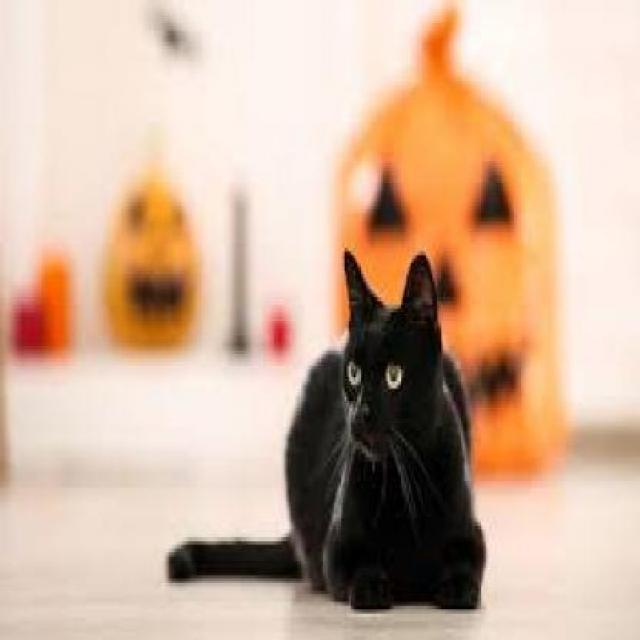animals: (165, 244, 488, 602)
